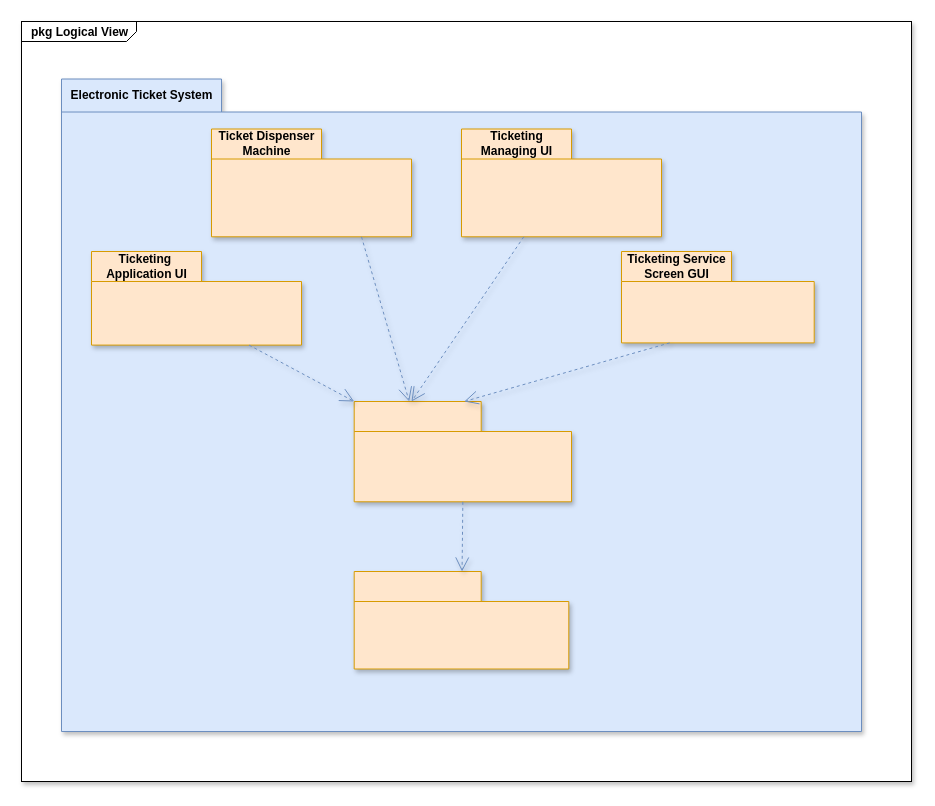
The diagram is 935 pixels wide and 806 high, and some of its shapes have lost their labels. The centre of each missing label's shape, as x and y in pixels:
"Ticketing Business Logic" goes at point 463,452.
"Ticketing Database Schema" goes at point 462,621.
